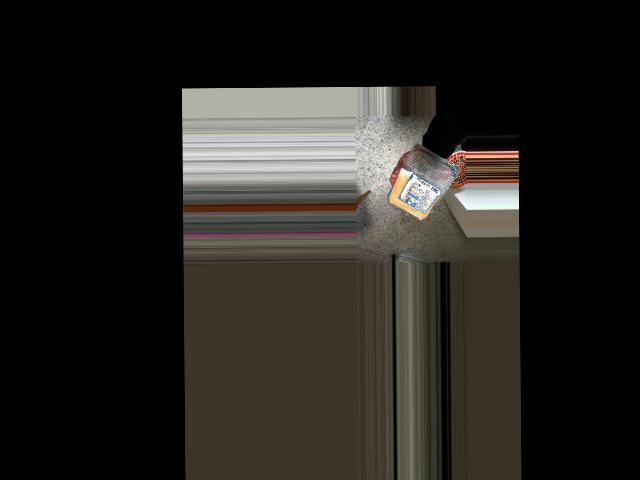cheese: (392, 150, 455, 222)
